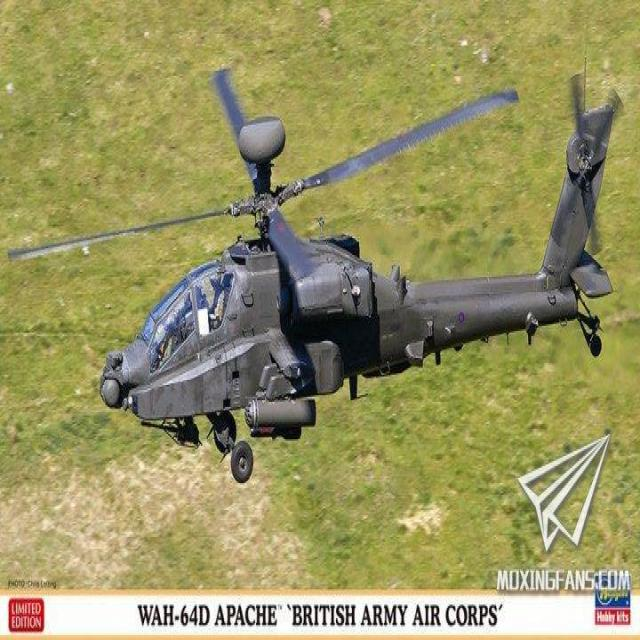MIL_HELO: (7, 61, 631, 486)
